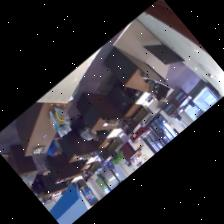person: (71, 117, 98, 139), (47, 135, 62, 159)
